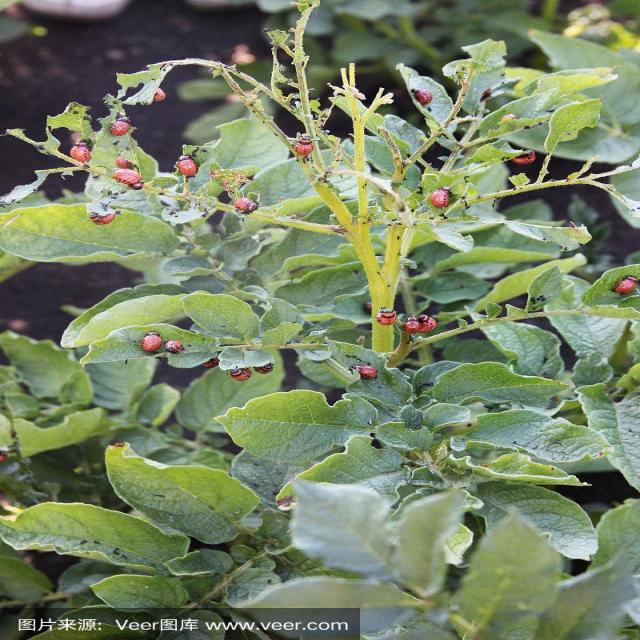ShuCaiHuaBanChong-Larva-: (105, 164, 154, 194), (103, 111, 144, 139), (342, 359, 385, 384), (233, 192, 267, 223), (414, 188, 461, 209), (173, 153, 208, 179), (134, 329, 161, 358), (69, 137, 98, 163), (225, 360, 254, 386), (288, 133, 320, 156), (611, 271, 639, 297), (507, 146, 540, 168), (406, 85, 438, 106), (419, 310, 443, 336), (398, 310, 419, 339), (371, 303, 397, 326), (157, 336, 187, 353), (252, 358, 275, 377)
